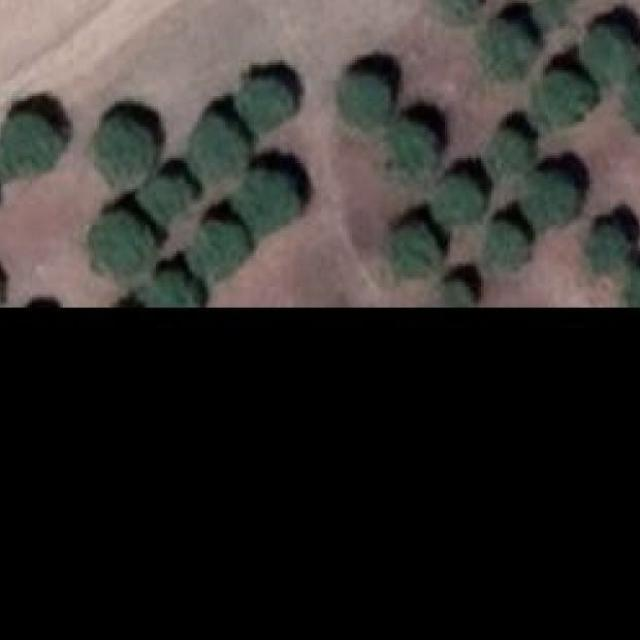Tree: (0, 114, 65, 180), (186, 117, 240, 189), (94, 120, 151, 185), (96, 212, 151, 278), (244, 168, 304, 228), (334, 73, 396, 130), (522, 171, 579, 228), (535, 70, 589, 130), (426, 173, 483, 225), (486, 16, 533, 78), (576, 24, 633, 75), (189, 220, 244, 269), (390, 122, 437, 176), (486, 130, 533, 177), (244, 80, 290, 127), (483, 223, 530, 267), (589, 222, 631, 271), (396, 225, 434, 277), (148, 176, 189, 218), (146, 270, 192, 306), (432, 274, 471, 306), (435, 0, 481, 21), (543, 0, 582, 19), (626, 70, 640, 121), (629, 263, 640, 304)
